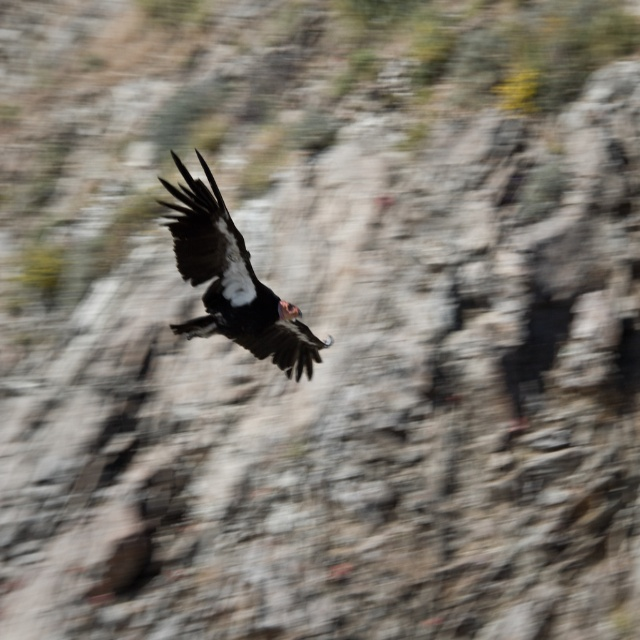Eagle: (155, 144, 335, 384)
